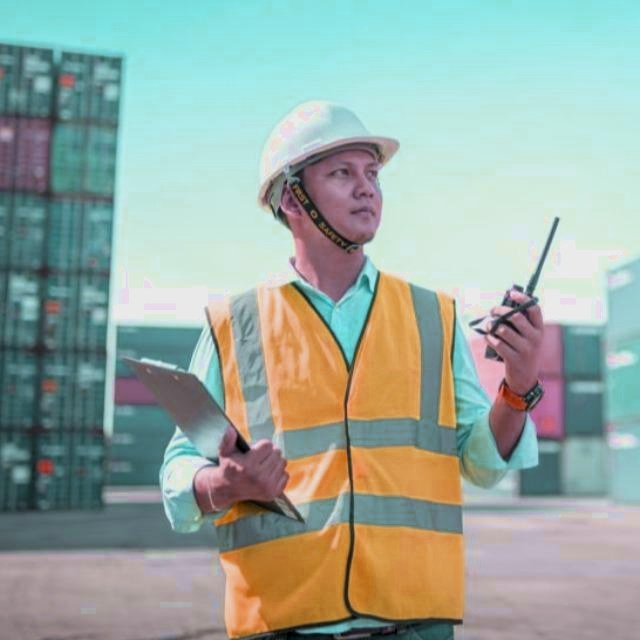Con_Casco: (253, 98, 403, 251)
Con_Chaleco: (212, 274, 471, 625)
